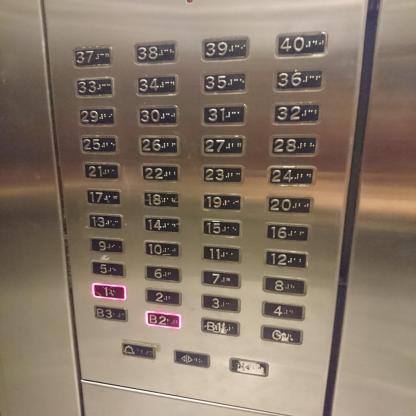1: (92, 282, 127, 300)
10: (143, 240, 181, 259)
11: (201, 244, 243, 264)
12: (263, 249, 308, 270)
13: (86, 213, 124, 231)
14: (142, 215, 181, 234)
15: (200, 218, 242, 238)
16: (263, 222, 311, 243)
17: (84, 188, 122, 207)
18: (140, 190, 181, 210)
19: (200, 192, 244, 212)
2: (144, 287, 182, 306)
20: (266, 195, 314, 215)
21: (81, 162, 121, 181)
22: (139, 162, 180, 184)
23: (200, 164, 245, 185)
24: (266, 165, 316, 187)
25: (79, 134, 119, 155)
26: (138, 134, 179, 156)
27: (200, 134, 246, 158)
28: (268, 135, 320, 157)
29: (77, 106, 116, 128)
3: (200, 293, 240, 314)
30: (136, 104, 178, 127)
31: (200, 103, 247, 126)
32: (270, 101, 322, 125)
33: (74, 76, 115, 99)
34: (135, 74, 178, 96)
35: (200, 71, 249, 95)
36: (273, 68, 326, 92)
37: (73, 44, 113, 69)
38: (133, 41, 179, 66)
39: (200, 36, 249, 62)
4: (262, 299, 306, 322)
40: (275, 32, 328, 58)
5: (89, 259, 126, 278)
6: (144, 263, 182, 284)
7: (200, 268, 242, 289)
8: (262, 275, 307, 297)
9: (88, 236, 126, 256)
B1: (200, 316, 241, 337)
B2: (145, 310, 181, 329)
B3: (94, 304, 129, 322)
G: (260, 324, 304, 346)
alarm: (121, 340, 161, 359)
close: (229, 357, 269, 377)
open: (174, 348, 210, 369)
